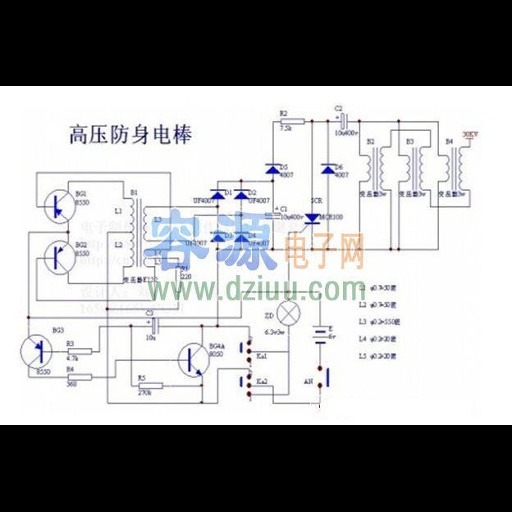battery: (309, 324, 328, 347)
firstdiode: (318, 160, 336, 177), (234, 226, 249, 246), (206, 186, 226, 201), (262, 161, 281, 176), (208, 229, 225, 244), (232, 187, 249, 201)
firstresistance: (136, 380, 168, 391), (65, 372, 94, 382), (64, 347, 93, 356), (278, 116, 306, 125), (173, 264, 181, 293)
light: (274, 299, 302, 326)
npn: (184, 347, 203, 375)
pnp: (47, 244, 71, 272), (49, 192, 70, 221), (27, 339, 48, 367)
secondpolarcapacitor: (145, 317, 164, 335), (262, 206, 281, 222)
transformer: (126, 198, 150, 267), (443, 145, 468, 192), (366, 147, 387, 191), (405, 147, 425, 191)
